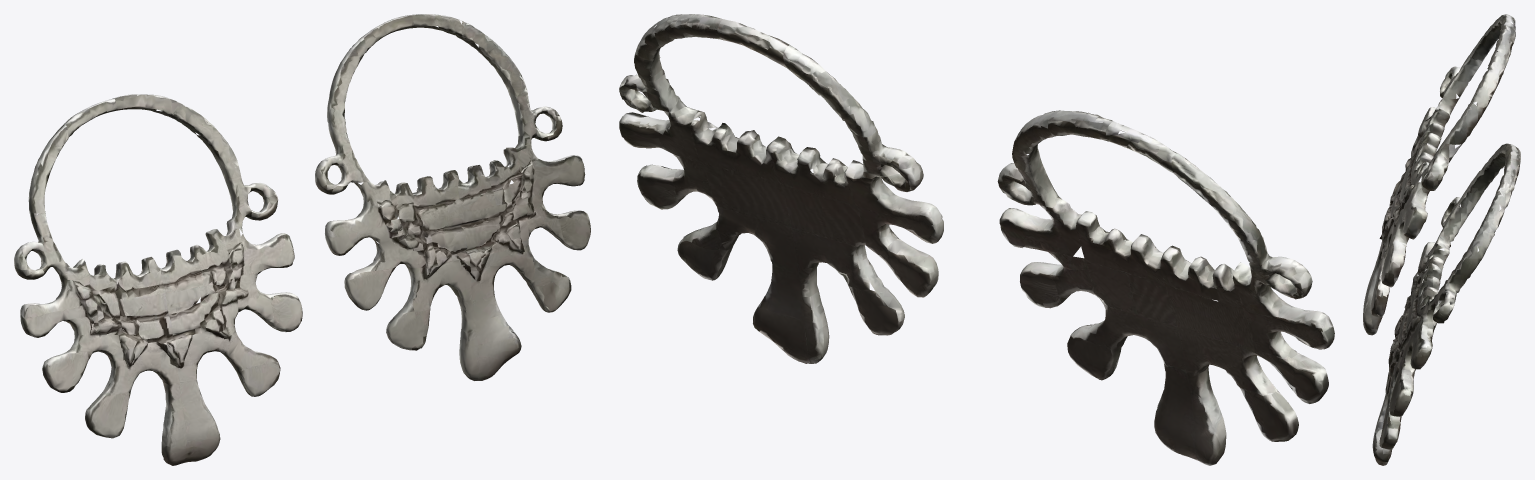
The model's file is gunes_kupe.glb.
3 views of the same model, side by side, from view 1: azimuth 30°, elevation 25°; view 2: azimuth 150°, elevation 25°; view 3: azimuth 270°, elevation 25° (orthographic). The views are drawn at different scales.
Visible parts, largest first — view 1: gunes_kupe; view 2: gunes_kupe; view 3: gunes_kupe.
Boxes of the visible parts, left/top/right/bottom form: gunes_kupe: left=14, top=14, right=590, bottom=465; gunes_kupe: left=619, top=14, right=1334, bottom=465; gunes_kupe: left=1363, top=14, right=1520, bottom=465.
Bounding box in the file's own units: 1.99 × 1.1 × 0.5078.
Materials: 1 (1 with a texture image).
